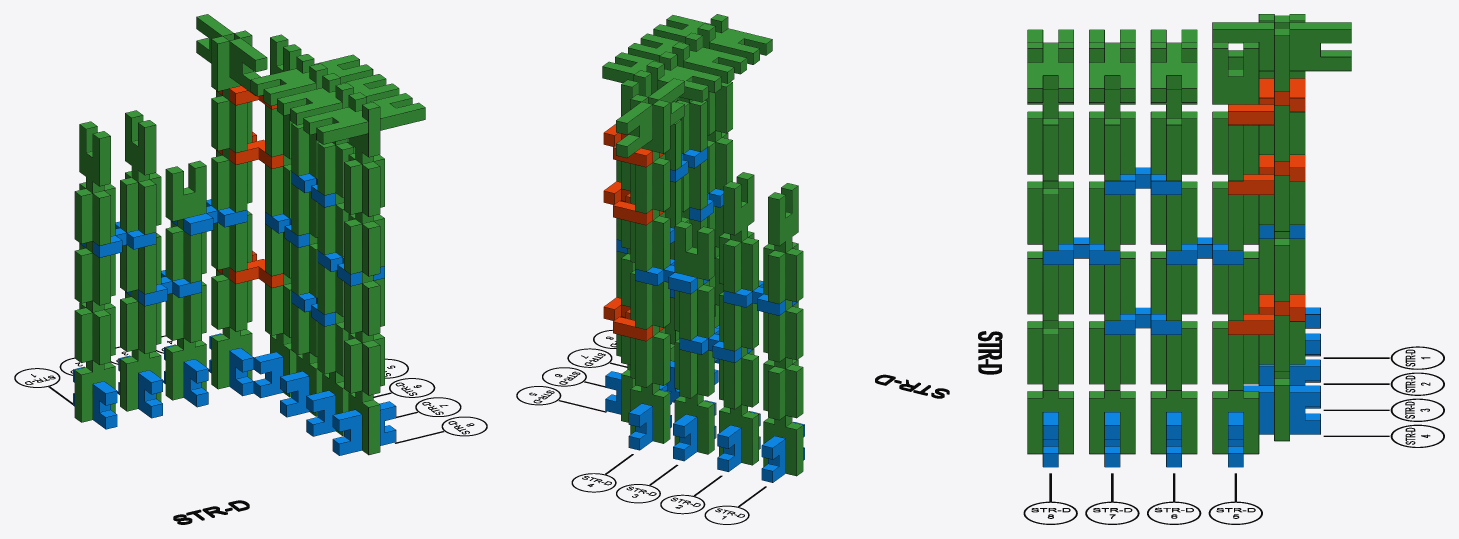
3 renders of one model, left to right at view 1: azimuth 30°, elevation 25°; view 2: azimuth 150°, elevation 25°; view 3: azimuth 270°, elevation 25°, orthographic. The views are drawn at different scales.
Parts seen in each view (by area): view 1: H_SIM (×40), X_SIM (×15), L_SIM (×2); view 2: H_SIM (×31), X_SIM (×10), L_SIM (×3); view 3: H_SIM (×29), X_SIM (×10), L_SIM (×3).
Boxes of the visible parts, x1,y1,x2,y2 form: H_SIM (×40): (75,14,425,454); X_SIM (×15): (73,172,395,455); L_SIM (×2): (216,132,282,287); H_SIM (×31): (602,14,802,475); X_SIM (×10): (605,148,804,482); L_SIM (×3): (604,124,664,340); H_SIM (×29): (1027,16,1351,453); X_SIM (×10): (1043,168,1320,466); L_SIM (×3): (1228,78,1304,334).
Bounding box in the file's own units: 3.82 × 3.82 × 3.94.
